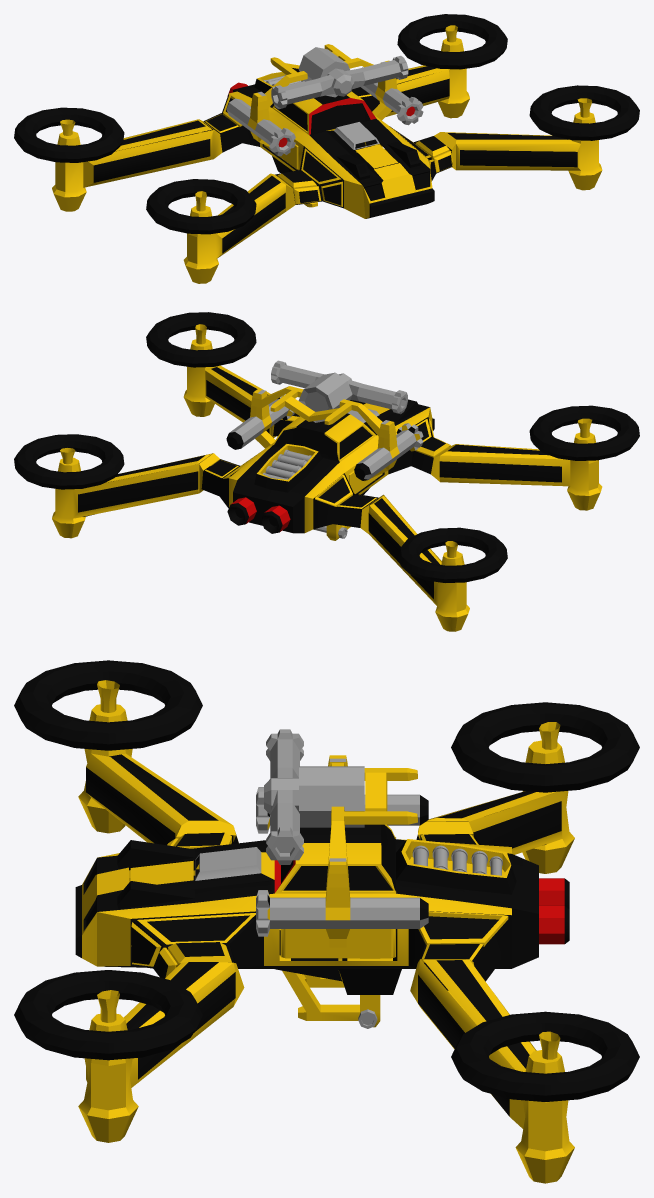
File: drone_test.fbx
3 views of the same model, one above another, from view 1: azimuth 30°, elevation 25°; view 2: azimuth 150°, elevation 25°; view 3: azimuth 270°, elevation 25° (orthographic). The views are drawn at different scales.
Parts seen in each view (by area): view 1: drone_costum; view 2: drone_costum; view 3: drone_costum.
Boxes of the visible parts, x1,y1,x2,y2 form: drone_costum: (14,14,639,283); drone_costum: (14,312,639,631); drone_costum: (14,660,639,1183).
Bounding box in the file's own units: 10.93 × 3.35 × 7.47.
